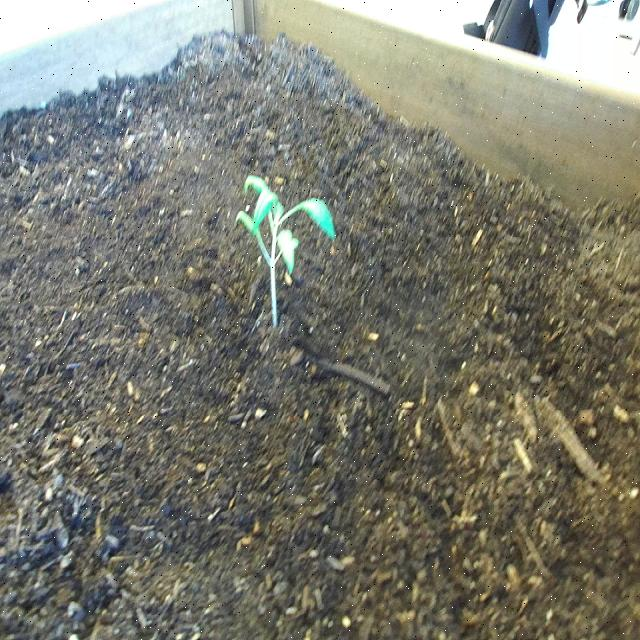Healthy: (230, 151, 343, 344)
